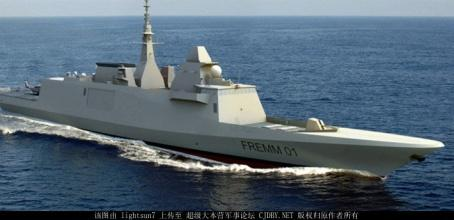warship: (1, 1, 446, 174)
